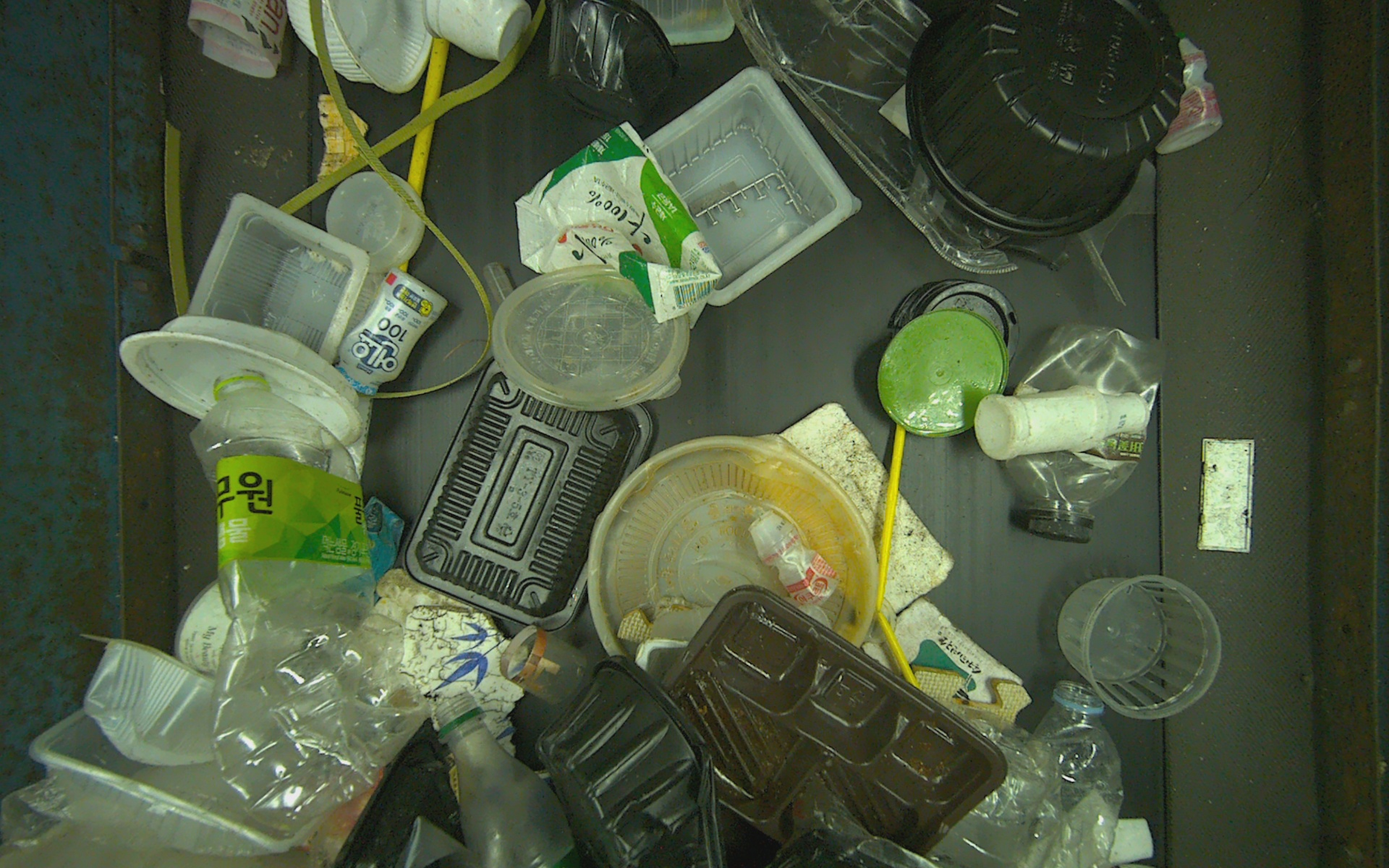PET: (190, 367, 428, 837)
PP-B: (404, 359, 654, 634), (905, 0, 1186, 237), (534, 659, 722, 868)
PS-W: (333, 266, 447, 398), (975, 386, 1150, 459), (749, 509, 839, 607), (1155, 31, 1222, 155)
